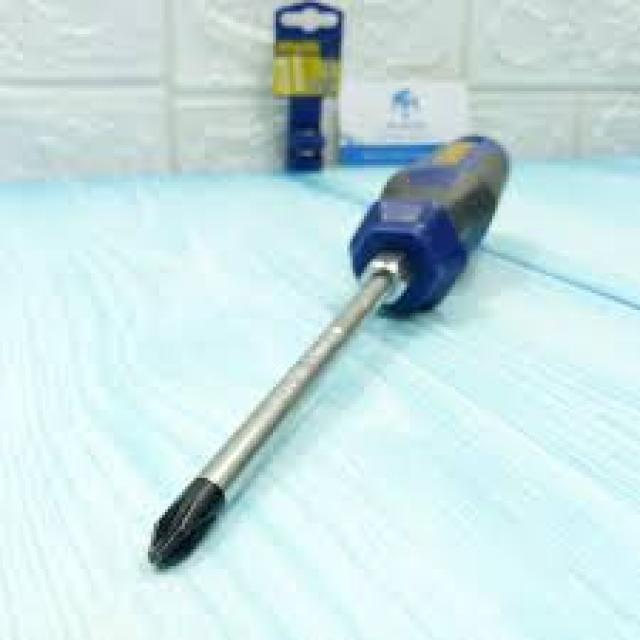screwdriver: (140, 130, 520, 574)
